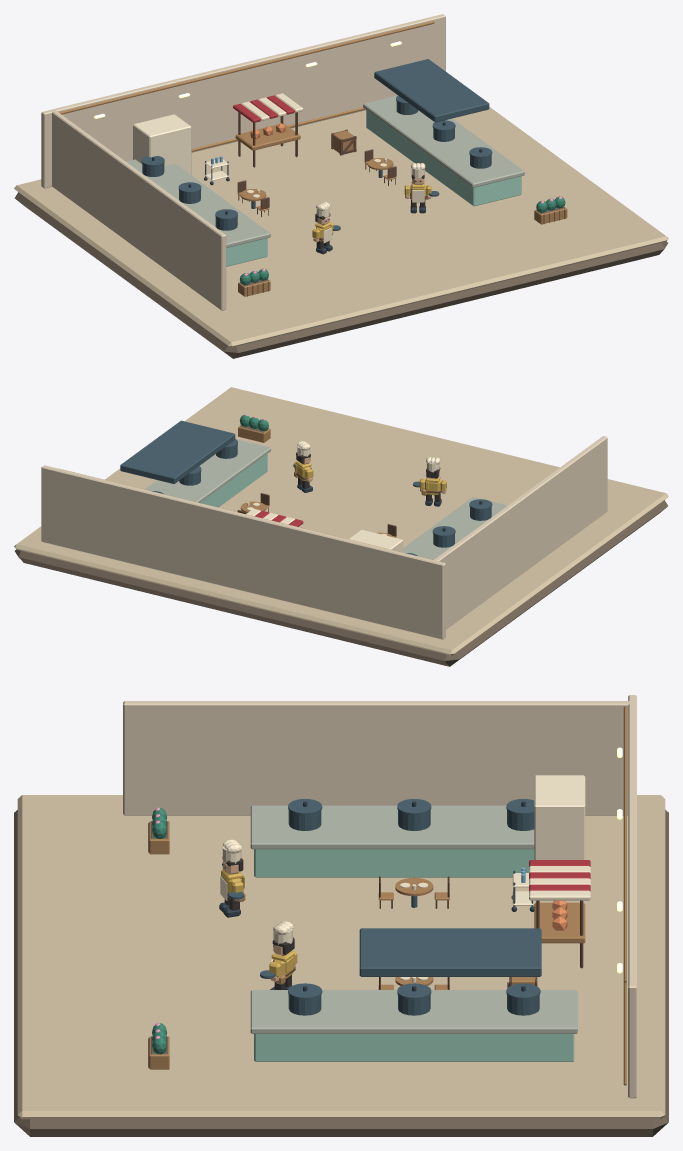
Rendered from world-kitchen.glb.
The picture shows the model from 3 angles, top to bottom: view 1: azimuth 30°, elevation 25°; view 2: azimuth 150°, elevation 25°; view 3: azimuth 270°, elevation 25°; orthographic projection. The views are drawn at different scales.
Visible parts, largest first — view 1: terrain-top, rear-wall, side-wall, terrain-stratum, worktop.001, extractor, cabinet.001, worktop, cold-storage, interior-trim.001, counter.001, cabinet; view 2: terrain-top, rear-wall, side-wall, terrain-stratum, extractor, worktop.001, worktop, cabinet.001, cold-storage; view 3: terrain-top, side-wall, terrain-stratum, worktop.001, worktop, cabinet.001, extractor, cabinet, cold-storage, rear-wall, counter.001, interior-trim.001 (+1 smaller).
Boxes of the visible parts, x1=… form: terrain-top: x1=14, y1=107, x2=668, y2=347; rear-wall: x1=41, y1=14, x2=445, y2=188; side-wall: x1=52, y1=110, x2=226, y2=310; terrain-stratum: x1=14, y1=192, x2=667, y2=358; worktop.001: x1=363, y1=95, x2=524, y2=187; extractor: x1=374, y1=59, x2=489, y2=122; cabinet.001: x1=366, y1=110, x2=521, y2=206; worktop: x1=126, y1=159, x2=270, y2=247; cold-storage: x1=133, y1=114, x2=191, y2=175; interior-trim.001: x1=59, y1=21, x2=434, y2=114; counter.001: x1=235, y1=123, x2=300, y2=150; cabinet: x1=226, y1=238, x2=267, y2=266; terrain-top: x1=14, y1=387, x2=668, y2=655; rear-wall: x1=41, y1=465, x2=445, y2=639; side-wall: x1=433, y1=436, x2=607, y2=629; terrain-stratum: x1=15, y1=500, x2=667, y2=666; extractor: x1=120, y1=420, x2=235, y2=483; worktop.001: x1=145, y1=439, x2=270, y2=502; worktop: x1=403, y1=497, x2=507, y2=559; cabinet.001: x1=201, y1=454, x2=267, y2=507; cold-storage: x1=349, y1=529, x2=403, y2=552; terrain-top: x1=17, y1=795, x2=665, y2=1119; side-wall: x1=123, y1=701, x2=630, y2=815; terrain-stratum: x1=14, y1=810, x2=668, y2=1136; worktop.001: x1=250, y1=990, x2=577, y2=1033; worktop: x1=250, y1=805, x2=534, y2=849; cabinet.001: x1=254, y1=1034, x2=574, y2=1061; extractor: x1=359, y1=928, x2=541, y2=976; cabinet: x1=254, y1=849, x2=534, y2=877; cold-storage: x1=534, y1=775, x2=585, y2=859; rear-wall: x1=628, y1=695, x2=636, y2=1098; counter.001: x1=534, y1=902, x2=585, y2=943; interior-trim.001: x1=623, y1=706, x2=626, y2=982.
Bounding box in the file's own units: 21 × 4.29 × 18.
